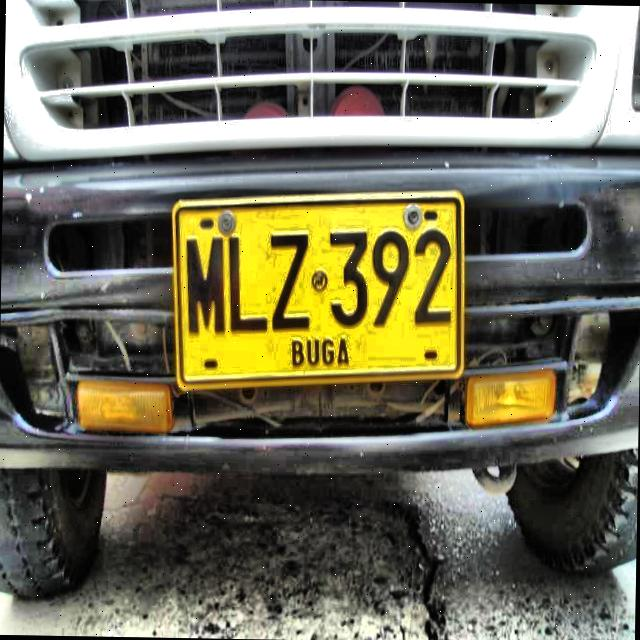plate: (169, 190, 465, 392)
